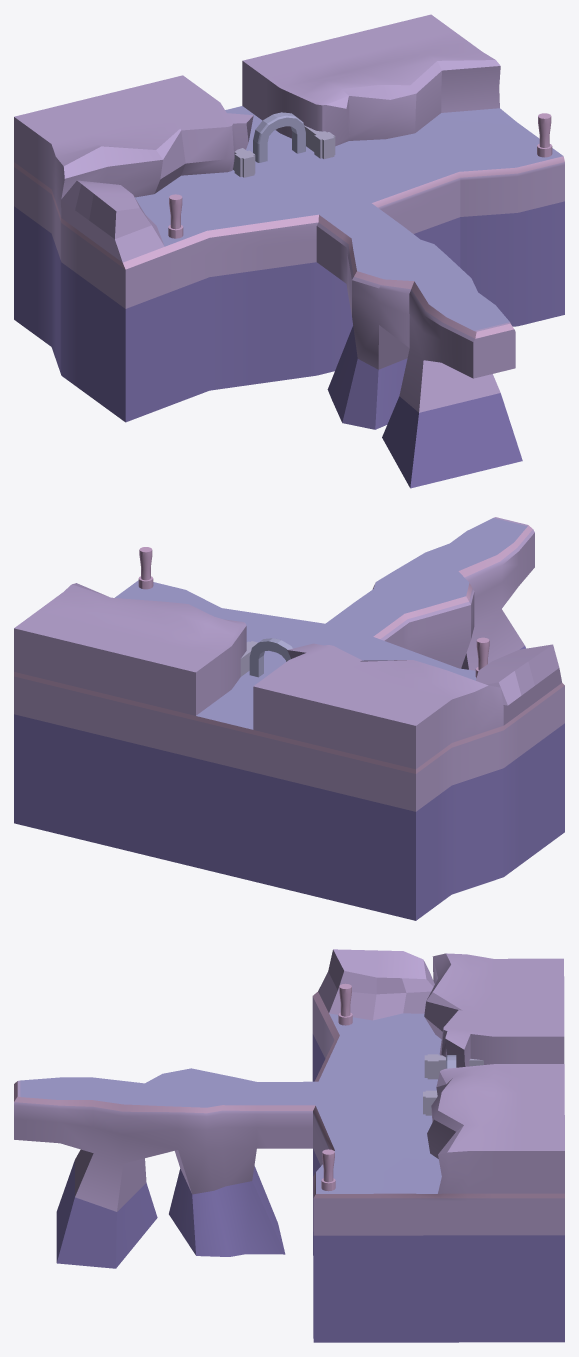
The model's file is Basic_Ground_2.fbx.
3 renders of one model, top to bottom at view 1: azimuth 30°, elevation 25°; view 2: azimuth 150°, elevation 25°; view 3: azimuth 270°, elevation 25°, orthographic. The views are drawn at different scales.
Visible parts, largest first — view 1: Cube, Cube.005, PathMesh, Cube.008, Cube.006, Cube.007, Cube.001, Cube.002, Cylinder; view 2: Cube.005, Cube, PathMesh, Cube.006, Cube.008, Cube.007, Cube.001, Cylinder.001; view 3: Cube, Cube.005, PathMesh, Cube.008, Cube.007, Cube.006, Cube.003, Cylinder.001, Cylinder.
Part boxes in pixels (x1,y1,x2,y2): Cube: (14,14,564,412); Cube.005: (14,201,564,488); PathMesh: (135,106,563,330); Cube.008: (242,61,500,146); Cube.006: (14,115,253,216); Cube.007: (61,181,164,262); Cube.001: (253,112,305,162); Cube.002: (304,125,335,159); Cylinder: (168,194,183,238); Cube.005: (14,646,564,920); Cube: (14,517,564,811); PathMesh: (115,518,527,729); Cube.006: (253,650,503,769); Cube.008: (14,626,246,715); Cube.007: (486,644,561,725); Cube.001: (249,638,293,677); Cylinder.001: (138,547,153,589); Cube: (14,949,564,1235); Cube.005: (56,1034,564,1342); PathMesh: (20,1013,441,1193); Cube.008: (427,1072,564,1193); Cube.007: (318,950,434,1020); Cube.006: (424,956,564,1067); Cube.003: (424,1054,483,1079); Cylinder.001: (321,1149,335,1191); Cylinder: (338,983,352,1025).
Size of the model in its own units: 2106 by 965 by 2395.
